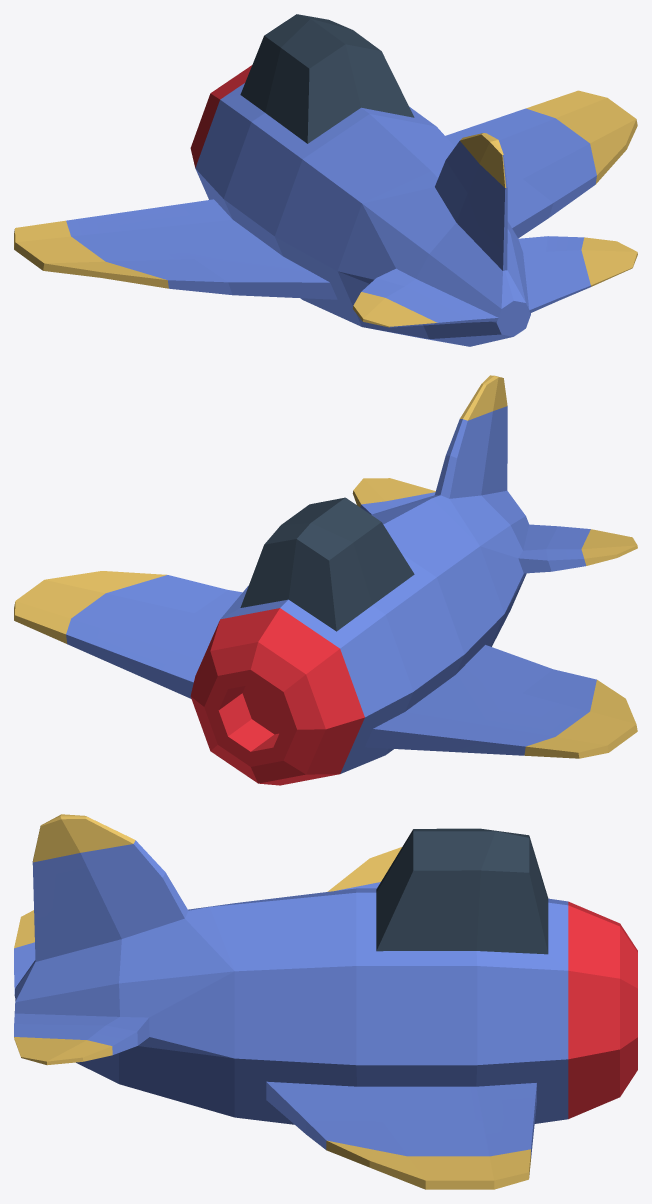
3 views of the same model, one above another, from view 1: azimuth 30°, elevation 25°; view 2: azimuth 150°, elevation 25°; view 3: azimuth 270°, elevation 25° (orthographic). The views are drawn at different scales.
Visible parts, largest first — view 1: Cylinder; view 2: Cylinder; view 3: Cylinder.
Part boxes in pixels (x1=…): Cylinder: x1=14, y1=14, x2=637, y2=346; Cylinder: x1=14, y1=375, x2=637, y2=785; Cylinder: x1=14, y1=814, x2=637, y2=1189.
Size of the model in its own units: 626 by 265 by 481.
